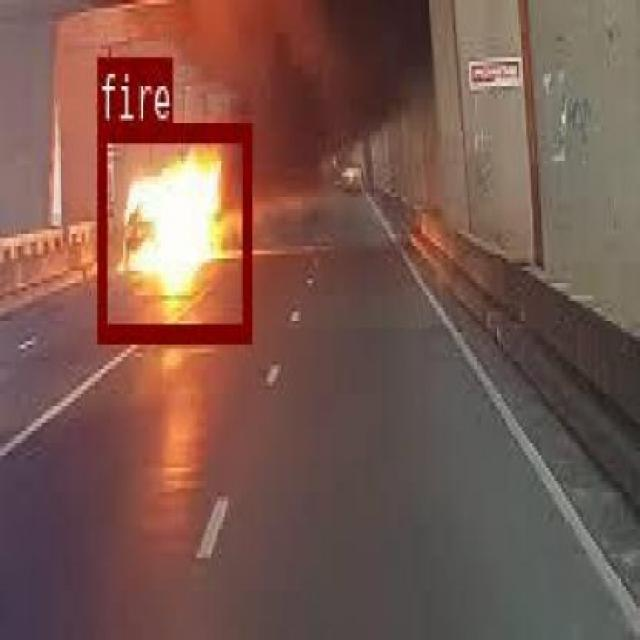Fire: (154, 217, 173, 230)
